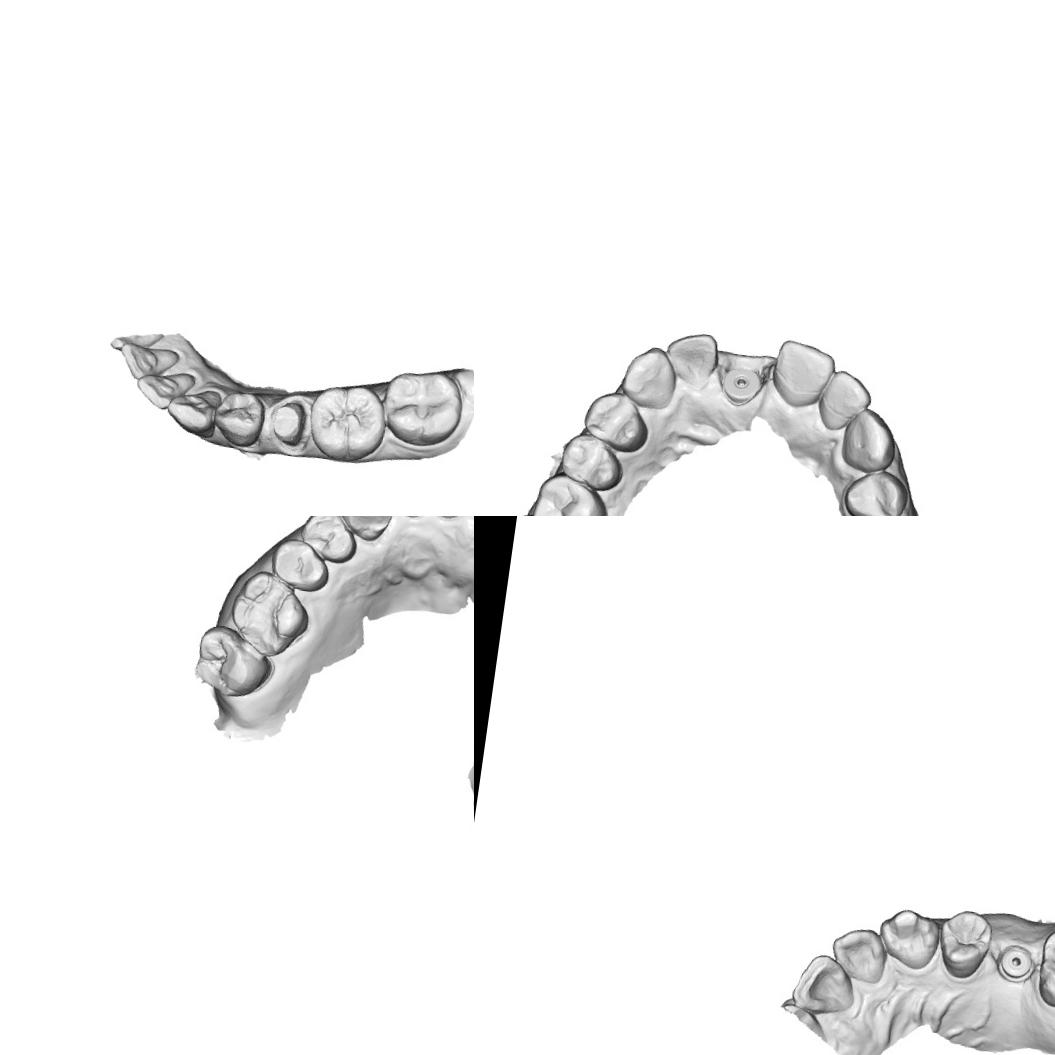canine: (874, 902, 944, 973), (837, 404, 902, 477), (618, 340, 677, 408), (161, 380, 227, 439), (336, 516, 397, 544)
crown: (264, 390, 313, 453)
implant: (993, 939, 1039, 988), (718, 364, 764, 409)
incisor: (790, 948, 864, 1023), (767, 337, 839, 413), (813, 366, 876, 436), (827, 922, 890, 988), (661, 328, 722, 392), (114, 338, 185, 386), (133, 364, 197, 414)
molar: (224, 566, 314, 662), (376, 362, 466, 452), (305, 378, 392, 468), (188, 620, 280, 702), (527, 466, 616, 516), (1032, 922, 1055, 1015)
premolar: (932, 900, 998, 982), (580, 387, 654, 456), (556, 430, 628, 494), (262, 534, 334, 595), (839, 465, 913, 516), (210, 386, 268, 450), (295, 516, 362, 566)
